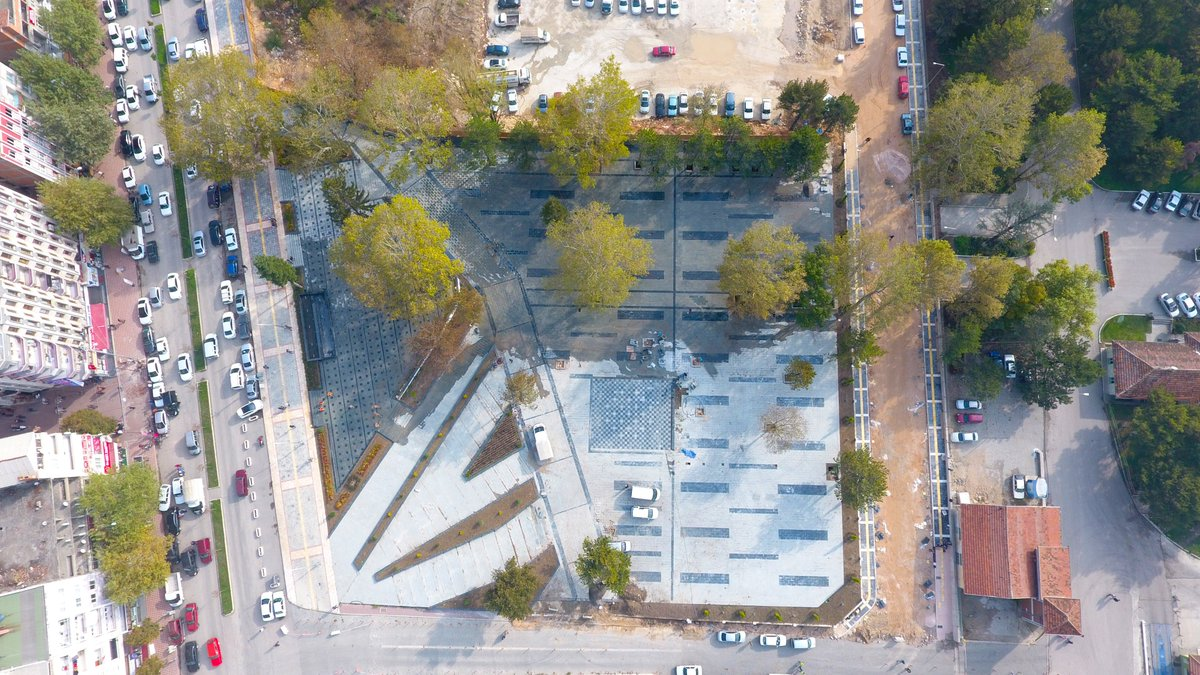car: (476, 68, 532, 88), (532, 422, 555, 462), (183, 477, 206, 516), (122, 224, 145, 261), (162, 571, 184, 608), (1156, 290, 1180, 318), (1175, 291, 1197, 319), (629, 485, 661, 502), (180, 547, 198, 577), (236, 400, 264, 419), (184, 640, 200, 673), (191, 228, 208, 259), (239, 342, 256, 373), (164, 506, 181, 537), (206, 637, 223, 668), (228, 362, 246, 391), (167, 617, 185, 646), (1131, 187, 1151, 213), (161, 390, 180, 417), (259, 590, 275, 622), (177, 352, 193, 383), (130, 133, 147, 162), (220, 311, 237, 340), (141, 325, 157, 355), (184, 602, 200, 632), (271, 590, 287, 620), (521, 28, 551, 44), (208, 219, 225, 247), (142, 73, 157, 104), (112, 45, 128, 74), (167, 272, 183, 301), (137, 297, 153, 326), (139, 207, 156, 234), (146, 356, 163, 383), (203, 333, 220, 360), (157, 190, 173, 218), (164, 538, 180, 566), (630, 505, 658, 521), (171, 476, 186, 505), (717, 629, 746, 644), (124, 84, 140, 111), (218, 279, 234, 306), (197, 538, 213, 565), (1177, 193, 1195, 217), (1165, 188, 1182, 213), (123, 24, 138, 52), (759, 633, 787, 648), (949, 430, 979, 444), (136, 26, 152, 52), (144, 240, 160, 266), (154, 336, 170, 362), (236, 315, 252, 341), (1148, 190, 1165, 214), (119, 129, 133, 158), (157, 483, 171, 512), (224, 226, 239, 253), (1011, 473, 1026, 500), (120, 164, 136, 189), (185, 431, 201, 456), (195, 37, 211, 62), (195, 6, 209, 34), (207, 183, 221, 211), (233, 288, 247, 316), (235, 469, 249, 497), (245, 374, 260, 400), (494, 12, 520, 27), (150, 142, 166, 166), (115, 97, 129, 124), (225, 253, 239, 280), (188, 97, 202, 124), (790, 636, 817, 650), (955, 412, 984, 425), (107, 21, 122, 46), (152, 382, 166, 408), (606, 540, 632, 554), (1003, 353, 1017, 379), (137, 183, 152, 207), (489, 89, 504, 113), (183, 41, 196, 68), (154, 410, 168, 435), (707, 89, 719, 118), (148, 286, 163, 309), (101, 1, 117, 22), (184, 156, 198, 180), (955, 399, 983, 411), (167, 36, 180, 61), (506, 88, 519, 113), (674, 664, 703, 675), (900, 112, 913, 136), (898, 75, 910, 101), (853, 21, 866, 45), (678, 88, 689, 116), (483, 58, 508, 70), (694, 90, 705, 117), (894, 13, 906, 37), (725, 91, 736, 117), (895, 46, 908, 68), (655, 93, 666, 118), (639, 90, 650, 115), (652, 46, 677, 57), (484, 44, 509, 55), (114, 73, 125, 97), (761, 97, 772, 121), (743, 96, 754, 120), (667, 93, 678, 117), (116, 1, 129, 18), (497, 1, 521, 10), (538, 94, 548, 115), (852, 1, 865, 16), (600, 1, 613, 16), (631, 1, 642, 17), (617, 1, 629, 15), (657, 1, 668, 16), (670, 1, 680, 16), (893, 1, 904, 13), (644, 1, 655, 13), (584, 1, 595, 9), (571, 1, 581, 8)
